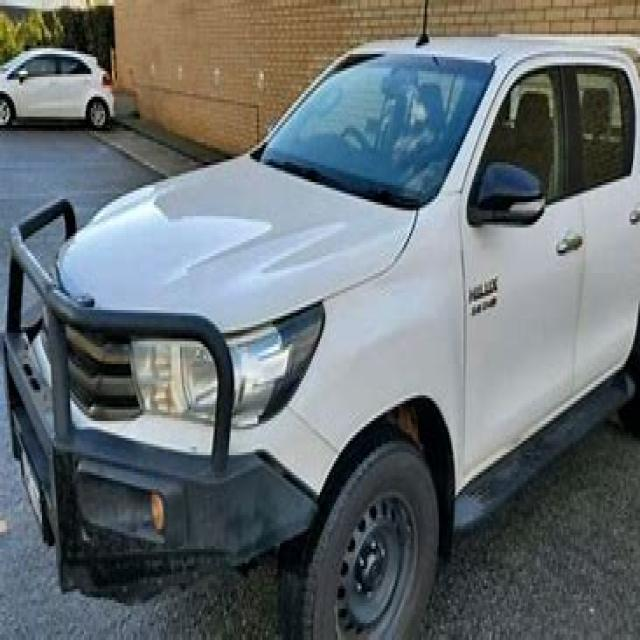light_vehicle: (14, 23, 638, 637)
